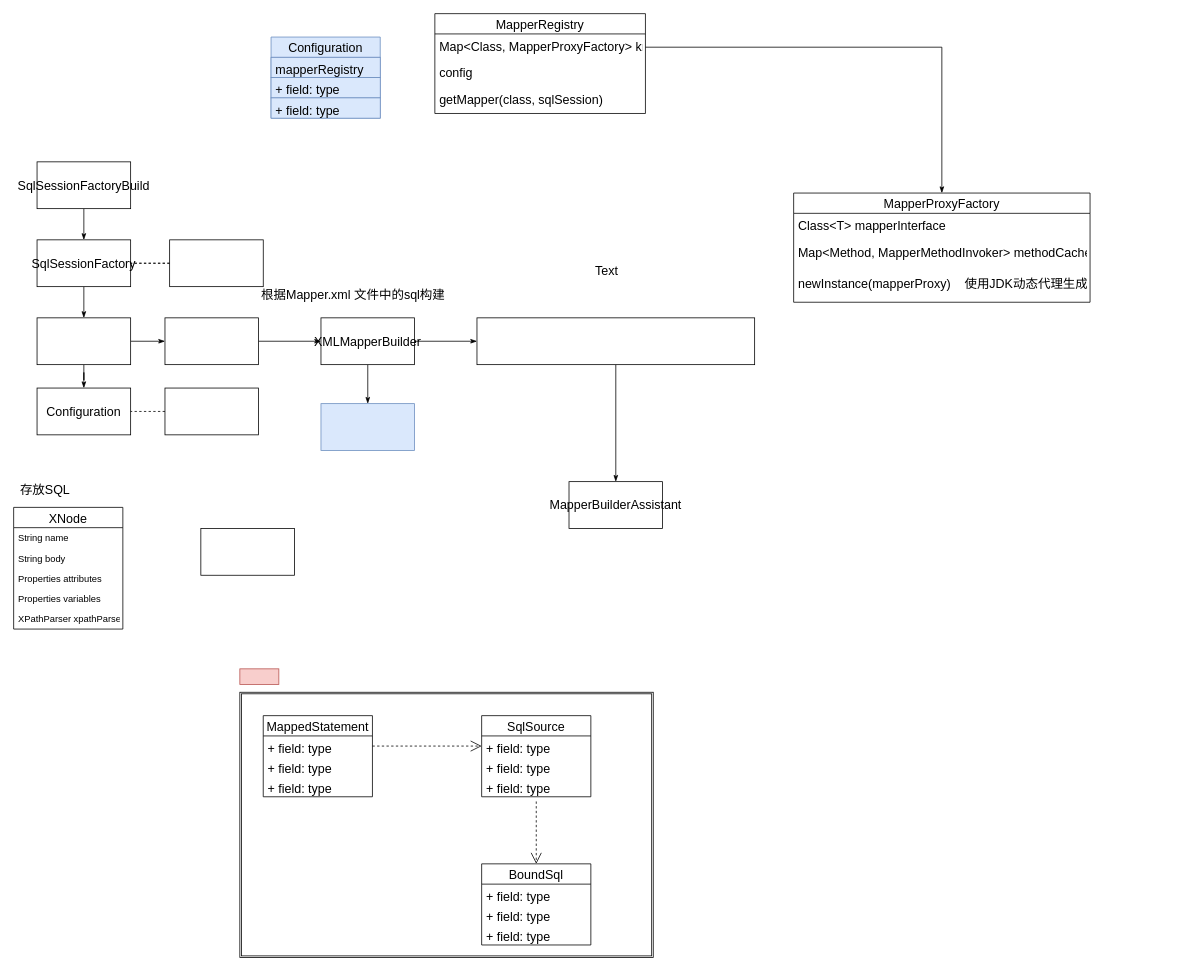
Some shapes in this 1188 by 971 pixel diagram are drawn without their labels. The shapes that lost their labels are listed below. From the top down, each one's centre as x and y in pixels, then its label:
At (x=216, y=263): "mybatis-config.xml".
At (x=83, y=341): "XMLconfigBuilder".
At (x=211, y=341): "解析Mapper.xml".
At (x=615, y=341): "XMLStatementBuilder.parseStatementNode".
At (x=211, y=411): "生成类型别名".
At (x=367, y=426): "bindMapperForNamespace".
At (x=247, y=551): "MapperStatement".
At (x=259, y=676): "SQL".
